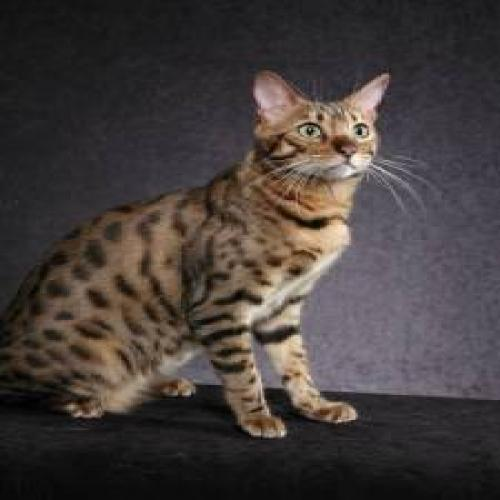bengal: (241, 60, 407, 195)
